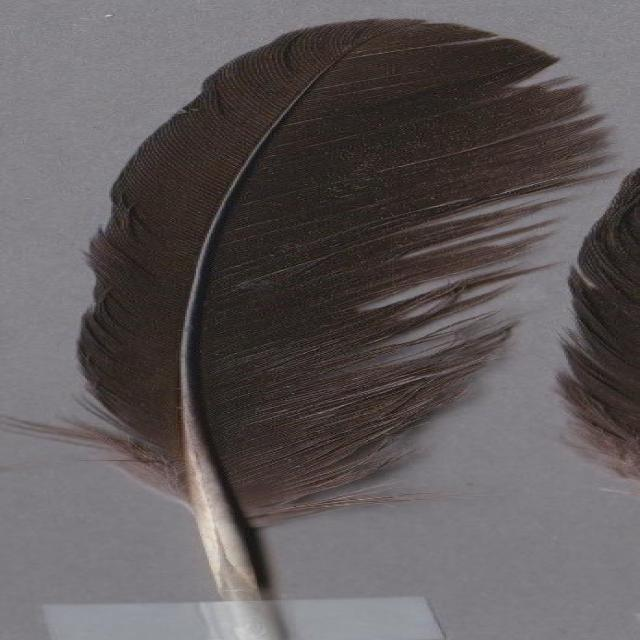feather: (24, 12, 640, 640)
